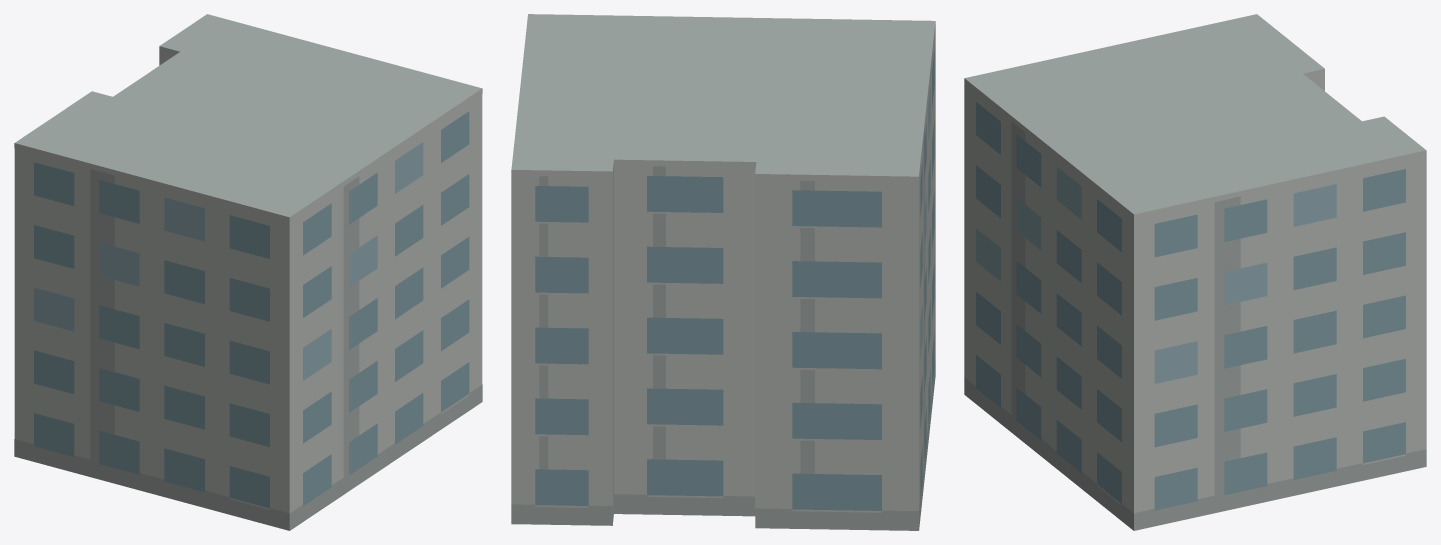
Rendered from survey-upis-32835228.glb.
3 renders of one model, left to right at view 1: azimuth 30°, elevation 25°; view 2: azimuth 150°, elevation 25°; view 3: azimuth 270°, elevation 25°, orthographic. The views are drawn at different scales.
Visible parts, largest first — view 1: survey-upis-32835228.tmp; view 2: survey-upis-32835228.tmp; view 3: survey-upis-32835228.tmp.
Part boxes in pixels (bbox=[...]): survey-upis-32835228.tmp: bbox=[14, 14, 482, 530]; survey-upis-32835228.tmp: bbox=[511, 14, 935, 530]; survey-upis-32835228.tmp: bbox=[964, 14, 1426, 530].
Bounding box in the file's own units: 19.43 × 14.3 × 18.93.
